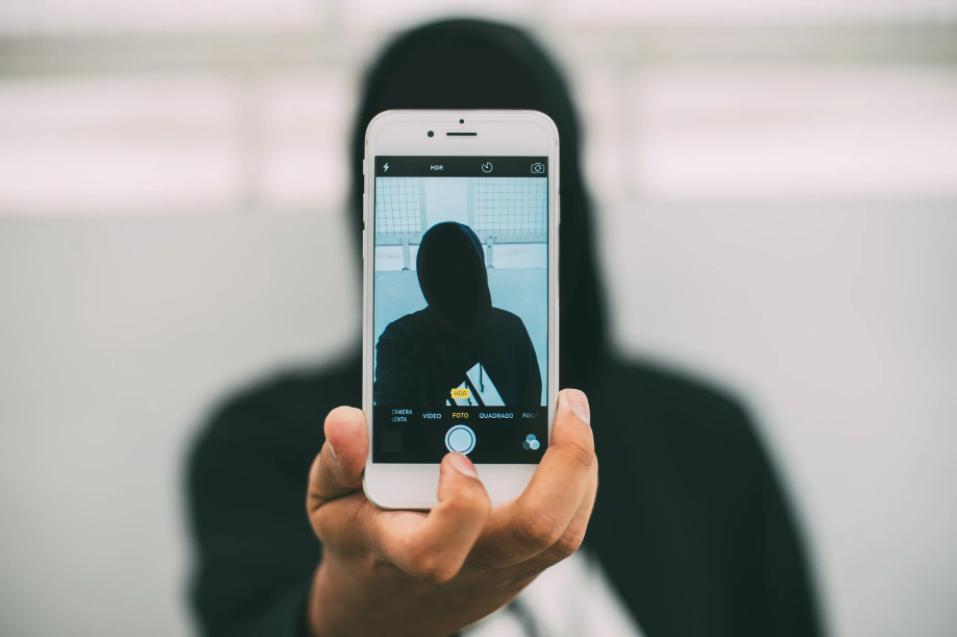mobile: (361, 107, 560, 512)
